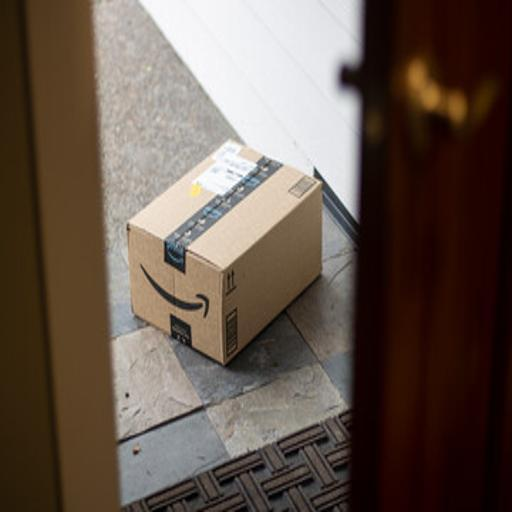Amazon: (127, 136, 326, 371)
